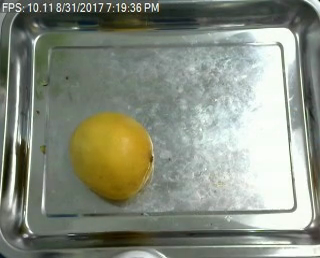Mango: (69, 114, 156, 203)
